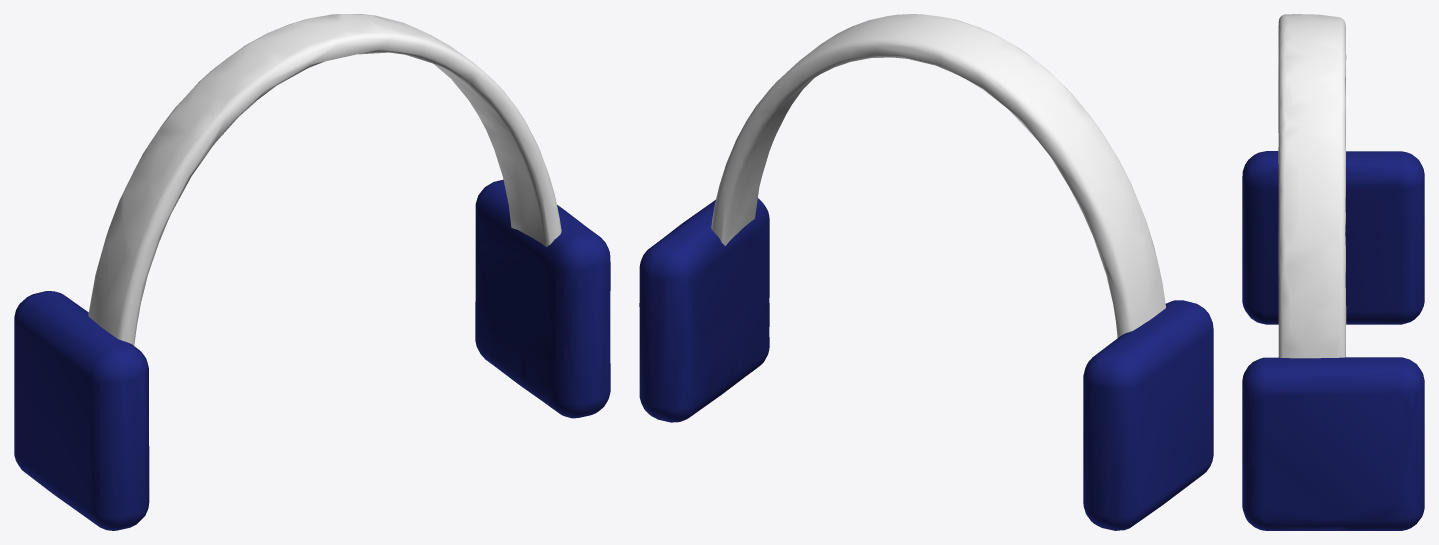
Rendered from acc_headphones.glb.
3 views of the same model, side by side, from view 1: azimuth 30°, elevation 25°; view 2: azimuth 150°, elevation 25°; view 3: azimuth 270°, elevation 25° (orthographic). The views are drawn at different scales.
Visible parts, largest first — view 1: acc_headphones_1_secondary, acc_headphones_0_primary; view 2: acc_headphones_1_secondary, acc_headphones_0_primary; view 3: acc_headphones_1_secondary, acc_headphones_0_primary.
Boxes of the visible parts, x1,y1,x2,y2 form: acc_headphones_1_secondary: [14, 179, 610, 530]; acc_headphones_0_primary: [88, 14, 561, 345]; acc_headphones_1_secondary: [639, 198, 1213, 530]; acc_headphones_0_primary: [711, 14, 1165, 337]; acc_headphones_1_secondary: [1242, 151, 1424, 530]; acc_headphones_0_primary: [1278, 14, 1346, 358].
Size of the model in its own units: 0.258 by 0.2033 by 0.0859.
